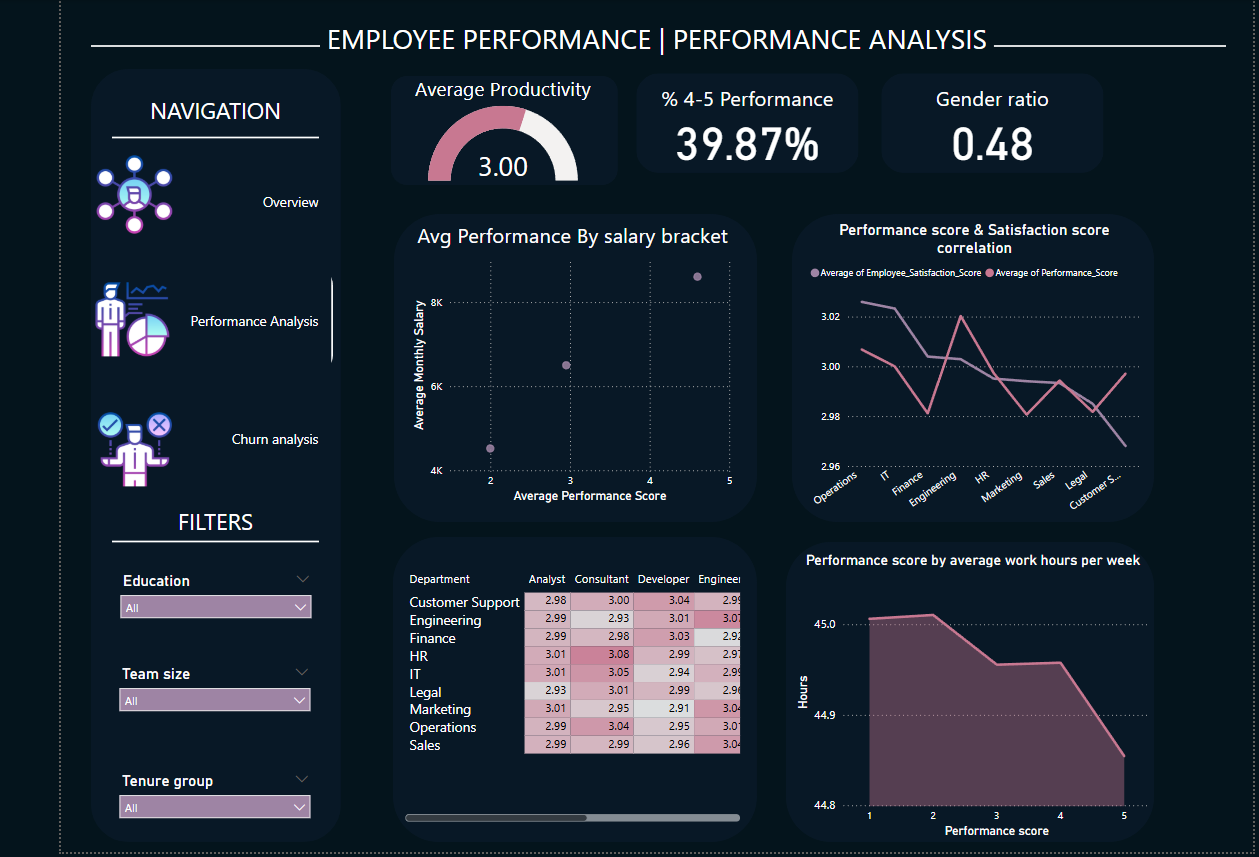

The dashboard page shown, as its layout file describes it:
{"tool":"powerbi","page":{"name":"Performance Analysis","canvas":[1400,1000],"ordinal":1},"visuals":[{"type":"shape","box":[35.2,9.4,1332.2,89.2],"z":0},{"type":"textbox","box":[304,0,791.1,71.6],"z":1000},{"type":"shape","box":[35.2,81,293.4,907.3],"z":2000},{"type":"shape","box":[402.6,642,427.2,358],"z":3000},{"type":"shape","box":[858,251.2,424.9,361.5],"z":4000},{"type":"shape","box":[850.9,636.2,431.9,352.1],"z":5000},{"type":"shape","box":[390.8,251.2,426.1,361.5],"z":6000},{"type":"scatterChart","title":"Avg Performance By salary bracket","fields":{"X":["Avg(Extended_Employee_Performance_and_Productivity_Data.Performance_Score)"],"Y":["Avg(Extended_Employee_Performance_and_Productivity_Data.Monthly_Salary)"],"Category":["Extended_Employee_Performance_and_Productivity_Data.Salary bracket"]},"box":[407.3,259.4,386.2,335.7],"z":7000},{"type":"cardVisual","title":"Total Employee","fields":{"Data":["Extended_Employee_Performance_and_Productivity_Data.% 4-5 Performance"]},"box":[681.9,81,270,136.2],"z":8000},{"type":"cardVisual","title":"Total Employee","fields":{"Data":["Avg(Extended_Employee_Performance_and_Productivity_Data.Work_Hours_Per_Week)"]},"box":[967.1,89.2,293.4,127.9],"z":9000},{"type":"shape","box":[59.9,145.5,243,31.7],"z":10000},{"type":"shape","box":[59.9,619.7,243,31.7],"z":11000},{"type":"textbox","box":[76.3,105.6,210.1,48.1],"z":12000},{"type":"textbox","box":[76.3,588,210.1,48.1],"z":13000},{"type":"pageNavigator","box":[35.2,177.2,284,399.1],"z":14000},{"type":"image","box":[35.2,177.2,102.1,102.1],"z":15000},{"type":"image","box":[35.2,478.9,102.1,97.4],"z":16000},{"type":"image","box":[35.2,326.3,97.4,97.4],"z":17000},{"type":"lineChart","title":"Performance score & Satisfaction score correlation","fields":{"Y":["Avg(Extended_Employee_Performance_and_Productivity_Data.Employee_Satisfaction_Score)","Avg(Extended_Employee_Performance_and_Productivity_Data.Performance_Score)"],"Category":["Extended_Employee_Performance_and_Productivity_Data.Department"]},"box":[874.4,259.4,395.5,353.3],"z":18000},{"type":"shape","box":[387.3,89.2,266.4,127.9],"z":19000},{"type":"gauge","title":"Average Productivity","fields":{"Y":["Extended_Employee_Performance_and_Productivity_Data.Avg productivity"]},"box":[383.8,89.2,270,127.9],"z":20000},{"type":"stackedAreaChart","title":"Performance score by average Training hours","fields":{"Category":["Extended_Employee_Performance_and_Productivity_Data.Performance_Score"],"Y":["Avg(Extended_Employee_Performance_and_Productivity_Data.Training_Hours)"]},"box":[858,646.7,424.9,341.5],"z":21000},{"type":"pivotTable","fields":{"Values":["Avg(Extended_Employee_Performance_and_Productivity_Data.Performance_Score)"],"Rows":["Extended_Employee_Performance_and_Productivity_Data.Department"],"Columns":["Extended_Employee_Performance_and_Productivity_Data.Job_Title"]},"box":[402.6,659.6,402.6,304],"z":22000},{"type":"slicer","fields":{"Values":["Extended_Employee_Performance_and_Productivity_Data.Education_Level"]},"box":[59.9,665.5,244.1,69.2],"z":23000},{"type":"slicer","fields":{"Values":["Extended_Employee_Performance_and_Productivity_Data.Team size"]},"box":[58.7,774.6,244.1,69.2],"z":24000},{"type":"slicer","fields":{"Values":["Extended_Employee_Performance_and_Productivity_Data.Tenure Group"]},"box":[58.7,894.4,244.1,69.2],"z":25000}]}

Visuals, with their boxes on the page's 1400x1000 design canvas (x1, y1, x2, y2). These are canvas units, not pixel positions in the 1259x857 screenshot, which may show the page scaled, cropped or inside an application window:
shape: bbox=[35, 9, 1367, 99]
textbox: bbox=[304, 0, 1095, 72]
shape: bbox=[35, 81, 329, 988]
shape: bbox=[403, 642, 830, 1000]
shape: bbox=[858, 251, 1283, 613]
shape: bbox=[851, 636, 1283, 988]
shape: bbox=[391, 251, 817, 613]
"Avg Performance By salary bracket" scatterChart: bbox=[407, 259, 794, 595]
"Total Employee" cardVisual: bbox=[682, 81, 952, 217]
"Total Employee" cardVisual: bbox=[967, 89, 1260, 217]
shape: bbox=[60, 146, 303, 177]
shape: bbox=[60, 620, 303, 651]
textbox: bbox=[76, 106, 286, 154]
textbox: bbox=[76, 588, 286, 636]
pageNavigator: bbox=[35, 177, 319, 576]
image: bbox=[35, 177, 137, 279]
image: bbox=[35, 479, 137, 576]
image: bbox=[35, 326, 133, 424]
"Performance score & Satisfaction score correlation" lineChart: bbox=[874, 259, 1270, 613]
shape: bbox=[387, 89, 654, 217]
"Average Productivity" gauge: bbox=[384, 89, 654, 217]
"Performance score by average Training hours" stackedAreaChart: bbox=[858, 647, 1283, 988]
pivotTable - Avg(Extended_Employee_Performance_and_Productivity_Data.Performance_Score) x Extended_Employee_Performance_and_Productivity_Data.Department: bbox=[403, 660, 805, 964]
slicer - Extended_Employee_Performance_and_Productivity_Data.Education_Level: bbox=[60, 666, 304, 735]
slicer - Extended_Employee_Performance_and_Productivity_Data.Team size: bbox=[59, 775, 303, 844]
slicer - Extended_Employee_Performance_and_Productivity_Data.Tenure Group: bbox=[59, 894, 303, 964]
